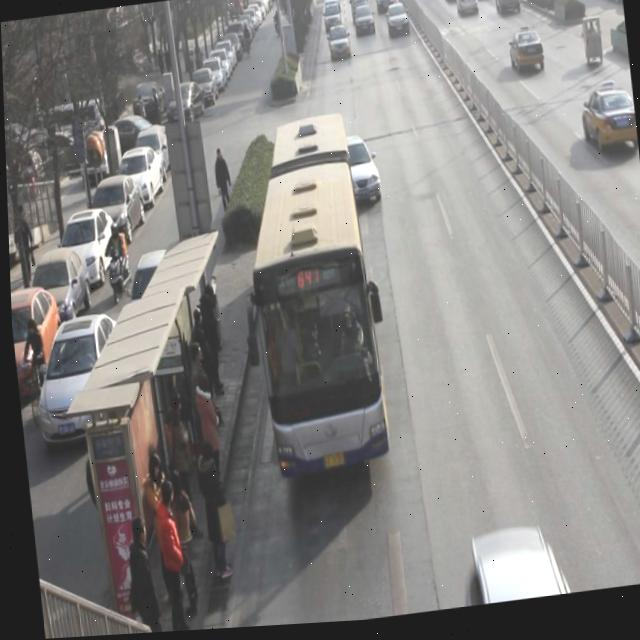car: (578, 87, 637, 166), (339, 138, 381, 212), (506, 32, 546, 82), (326, 29, 351, 67), (385, 8, 410, 45), (353, 10, 376, 45), (492, 0, 521, 25), (454, 0, 479, 25), (323, 7, 343, 37), (374, 0, 394, 21)
truck: (349, 0, 369, 28)
van: (235, 119, 386, 482)
